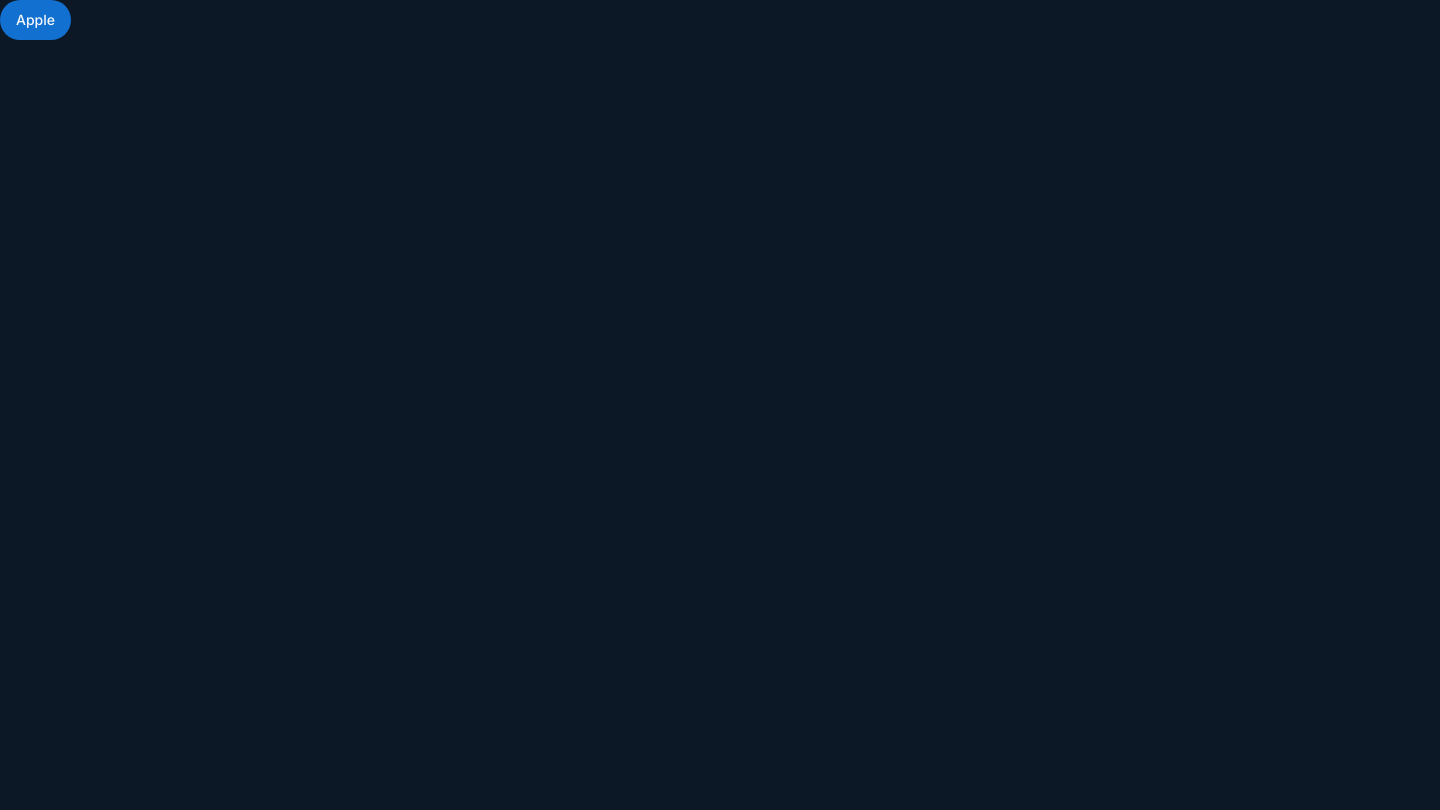
Test case: under-construction pop-up › an unbuilt-feature button is enabled and opens the pop-up
The width and height of the screenshot is (1440, 810).
Click the button "Apple" at (36, 20), box top-left (0, 0), bottom-right (71, 40)
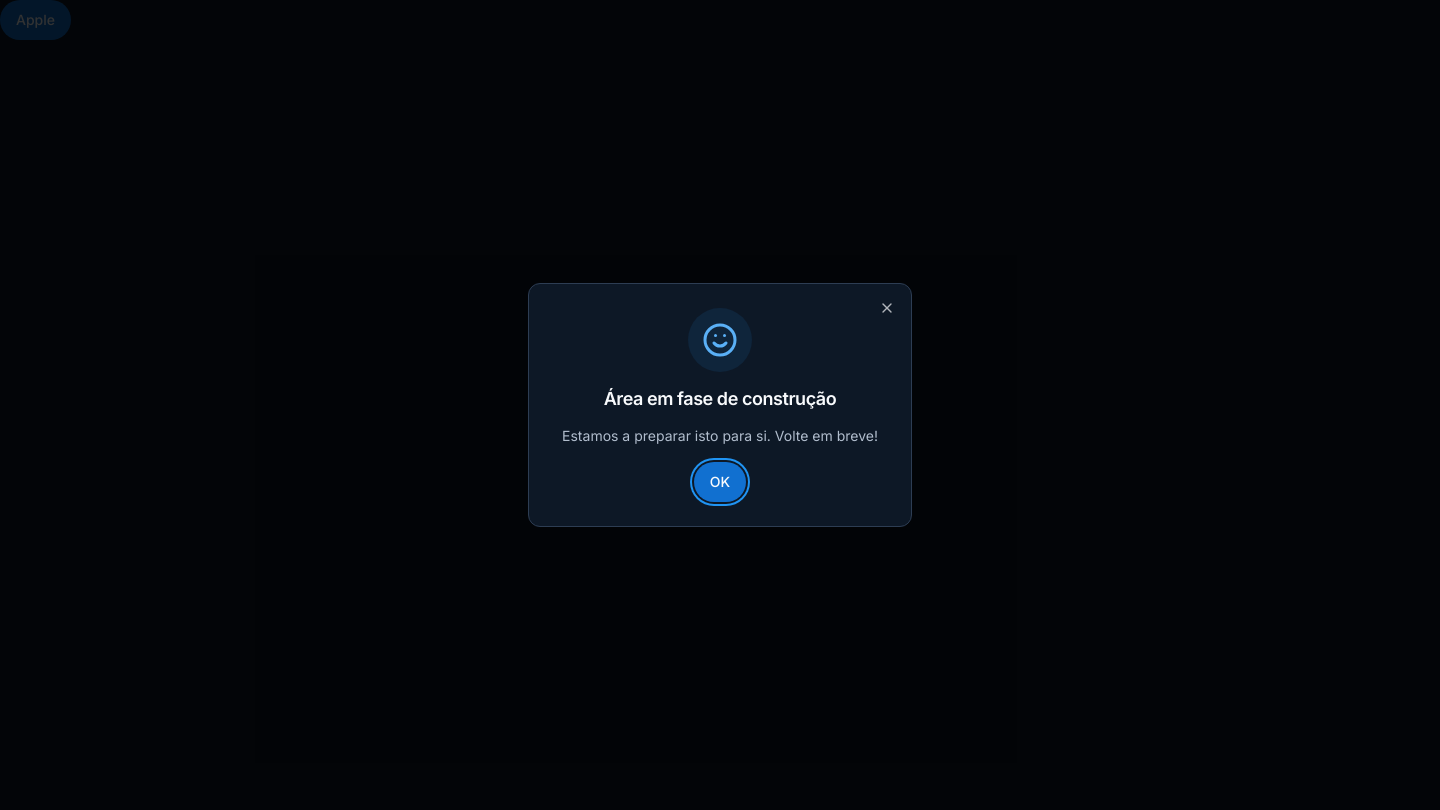
Check: the heading "Área em fase de construção" is shown, box top-left (604, 390), bottom-right (836, 408)
